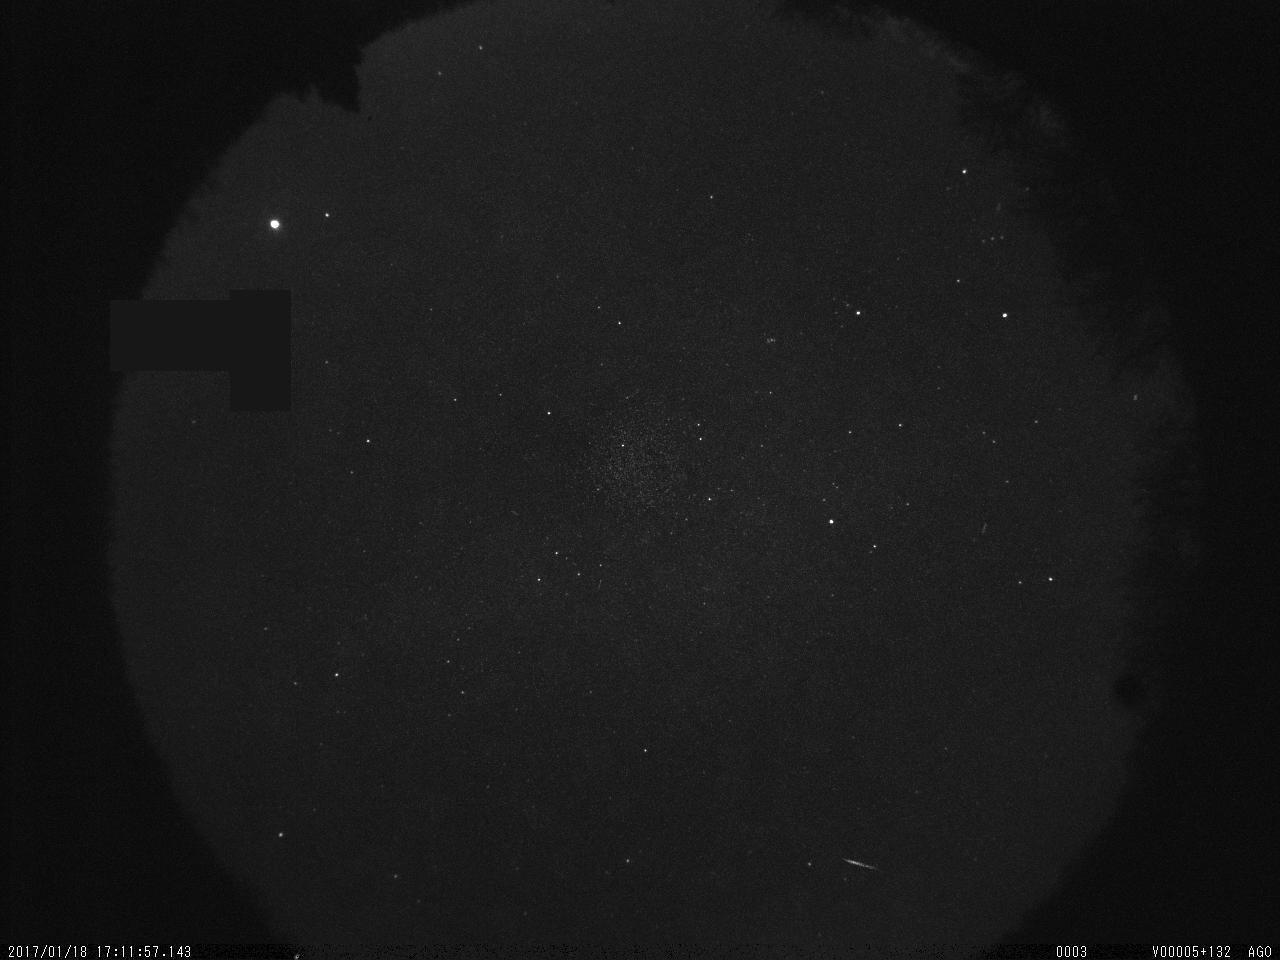meteor: (838, 849, 892, 884)
